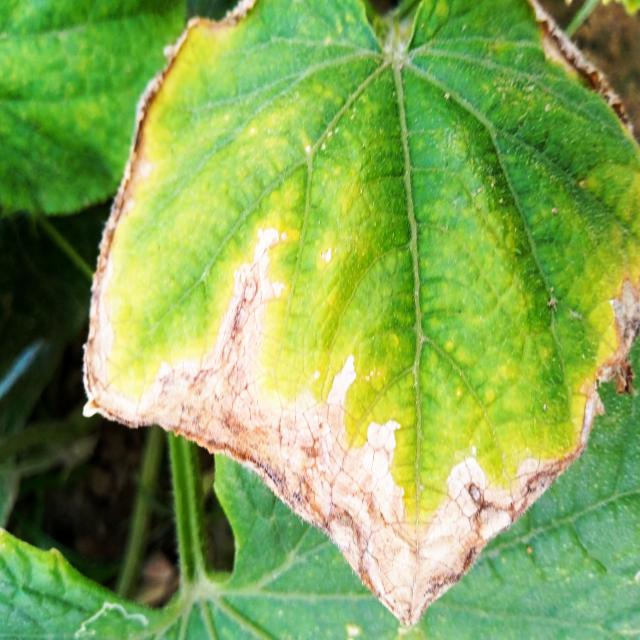Gummy-Stem-Blight: (77, 1, 640, 632)
